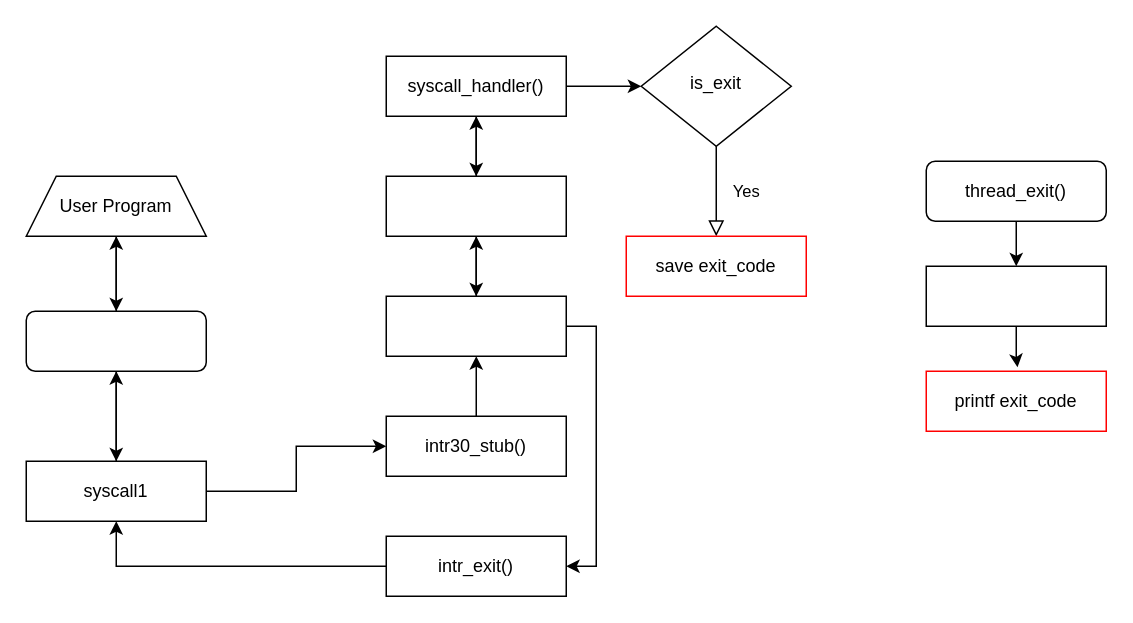
Some shapes in this 1133 by 623 pixel diagram are drawn without their labels. The shapes that lost their labels are listed below. From the top down, each one's box as (x1, y1, x2, y2) in pixels, then its label:
(385, 175, 566, 236): intr_handler()
(925, 265, 1106, 326): process_exit()
(25, 310, 206, 371): exit
(385, 295, 566, 356): intr_entry()
